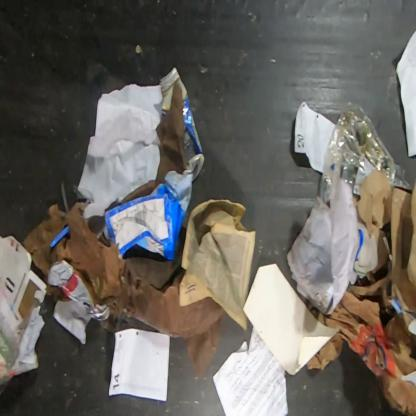cardboard: (353, 171, 412, 336), (105, 170, 193, 261)
metal: (160, 68, 205, 180)
rigid_plastic: (319, 102, 413, 210)
